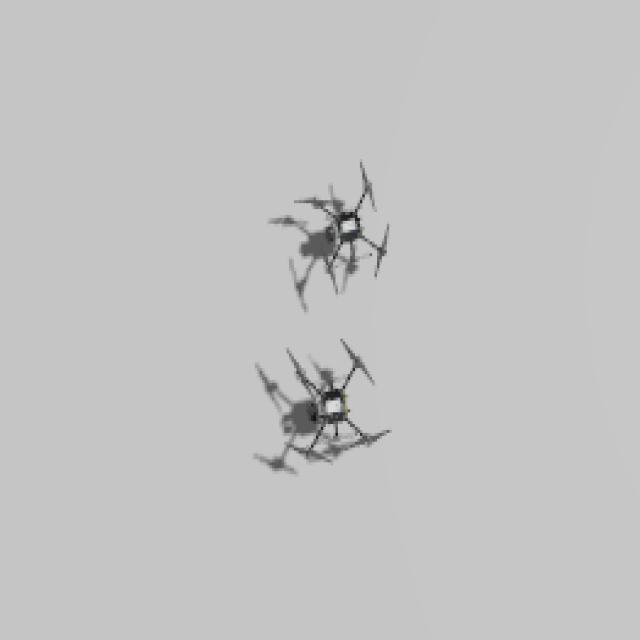drone: (295, 158, 404, 292), (283, 340, 392, 457)
